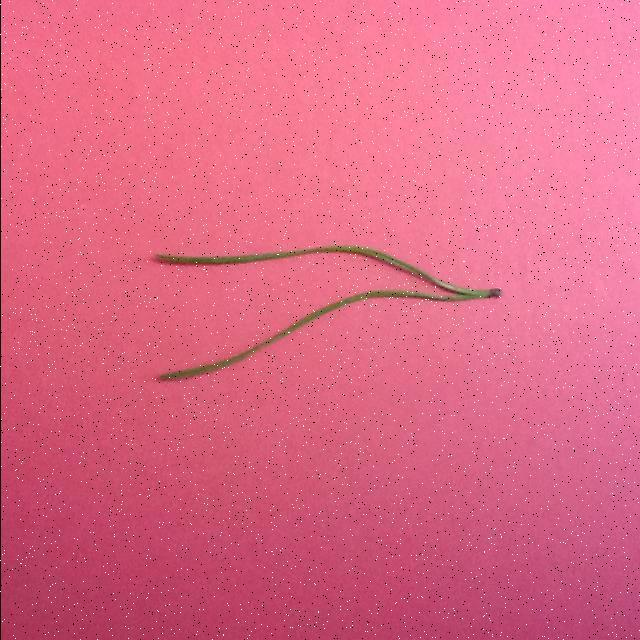foliage: (151, 240, 501, 378)
